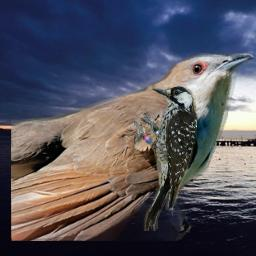Cuckoo: (11, 53, 254, 241)
Woodpecker: (134, 86, 197, 231)
